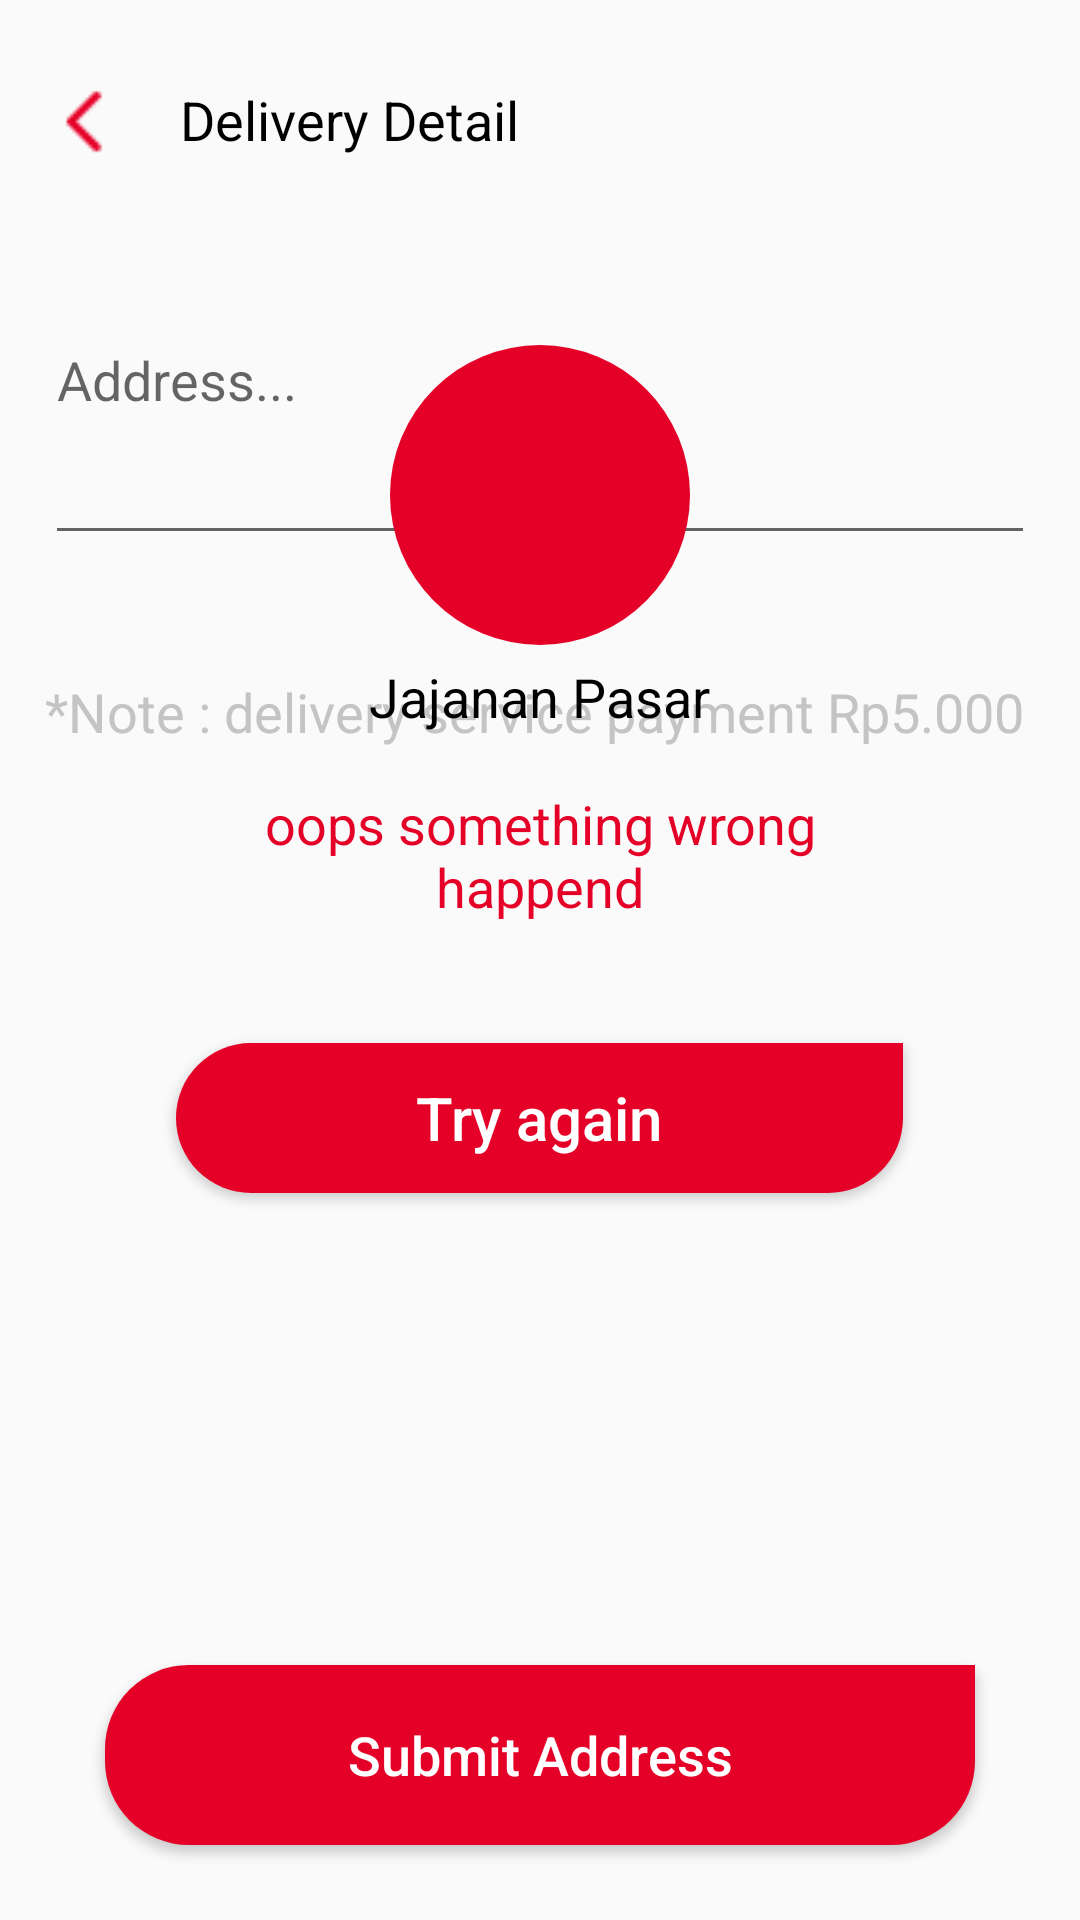

Named icons in this screenshot (1080 × 1920) and their bounding boxes, Rect(x1, y1, x2, y2):
back: Rect(66, 91, 102, 152)
